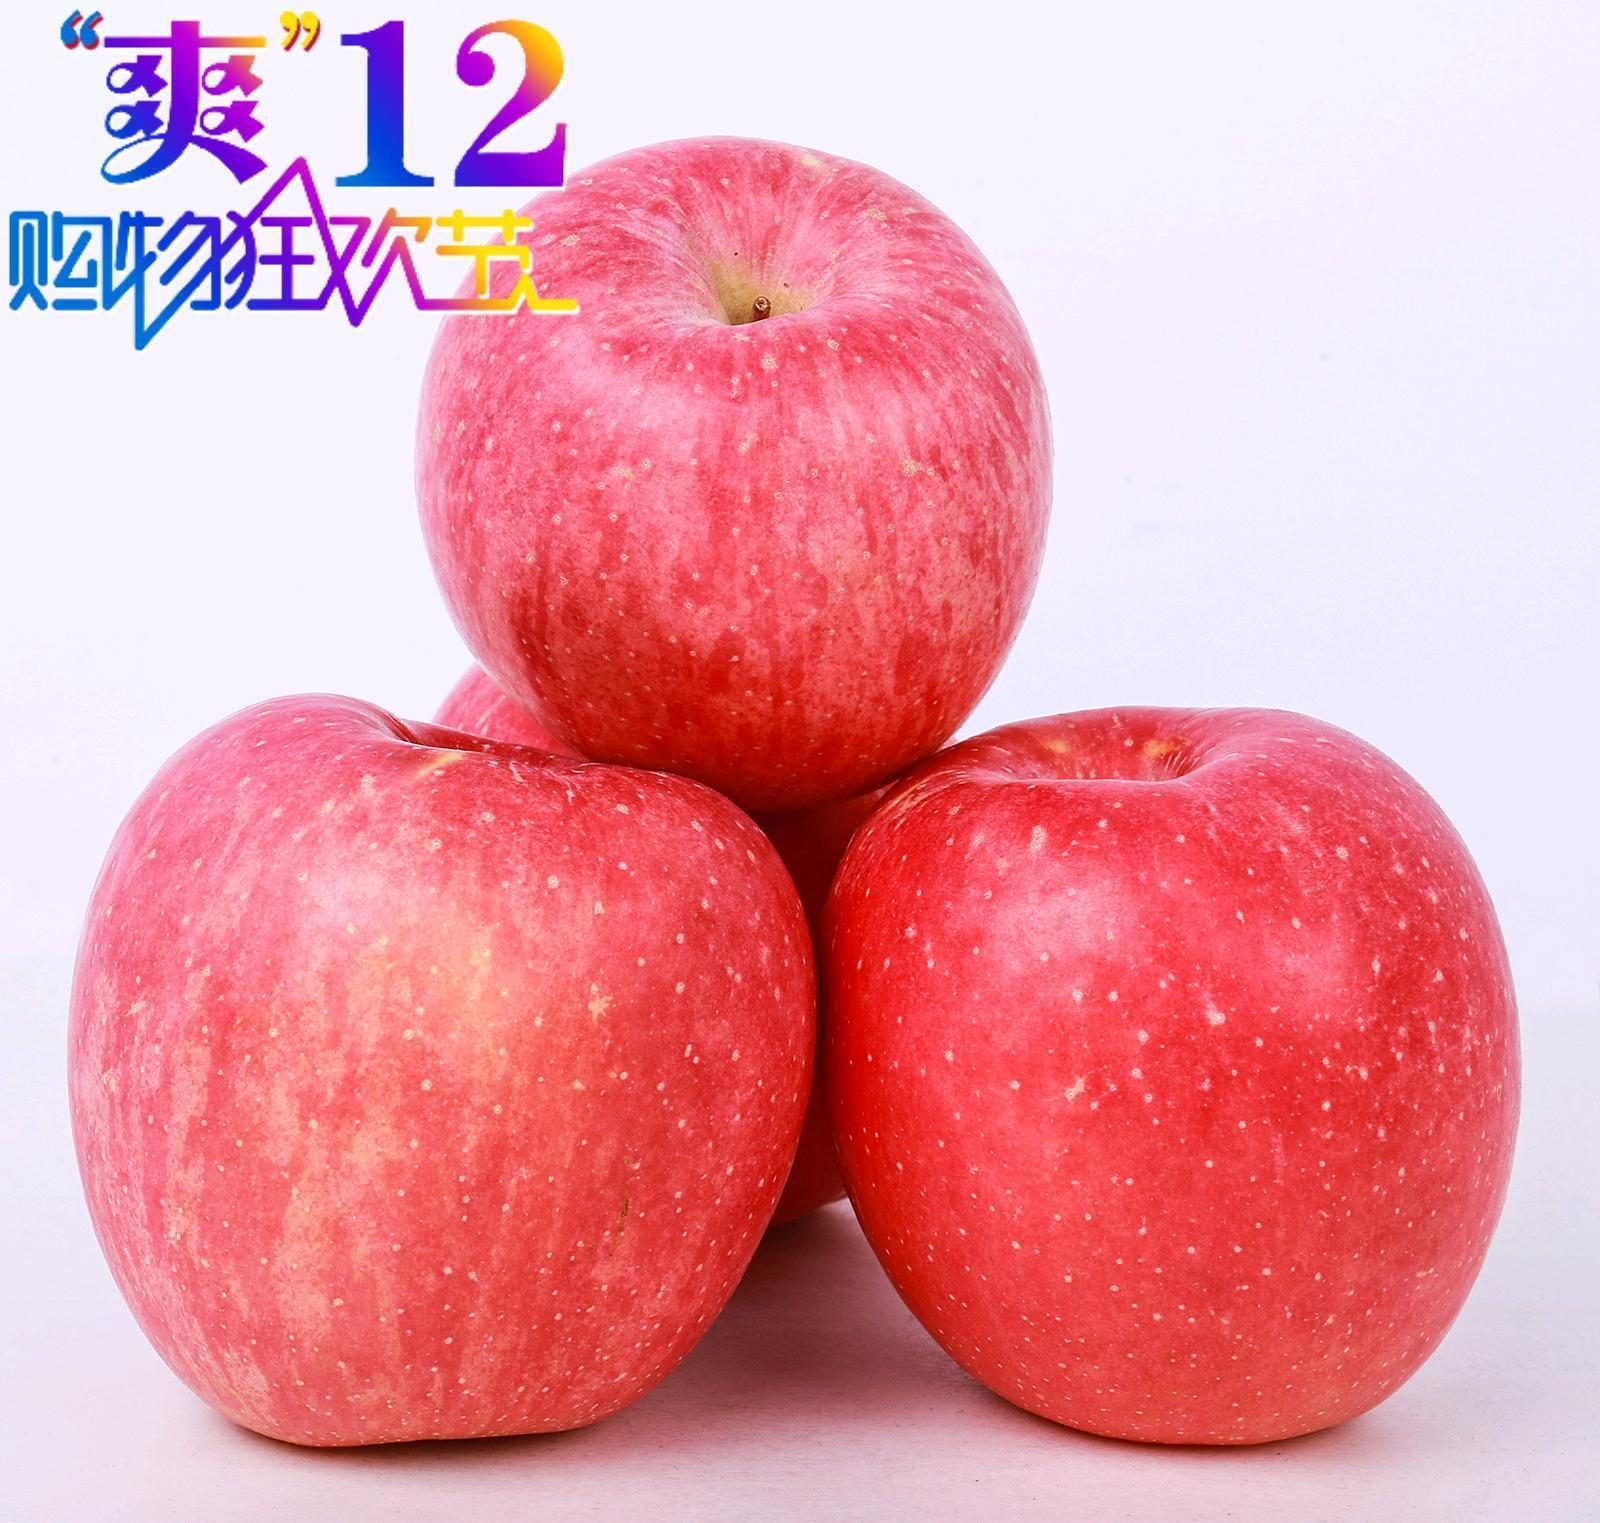apple: (71, 700, 830, 1452), (817, 709, 1529, 1447), (427, 136, 1057, 812)
